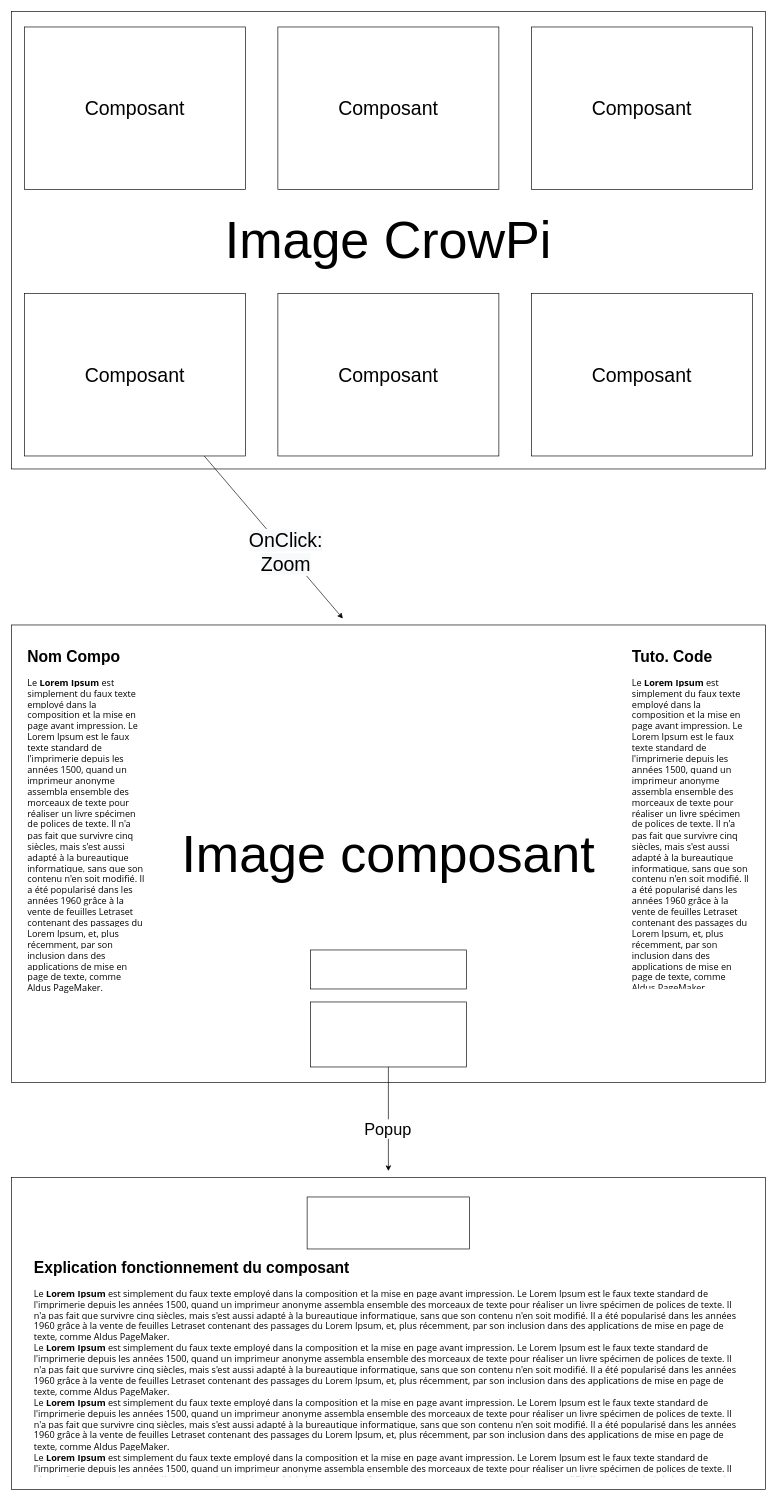
The diagram is 777 pixels wide and 1501 high, and some of its shapes have lost their labels. The shapes that lost their labels are listed below. From the top down, each one's centre as x and y in pixels, then its label:
the point at 388,969: Position des pins
the point at 388,1034: Bouton Explication
the point at 388,1222: Bouton test du composant/
